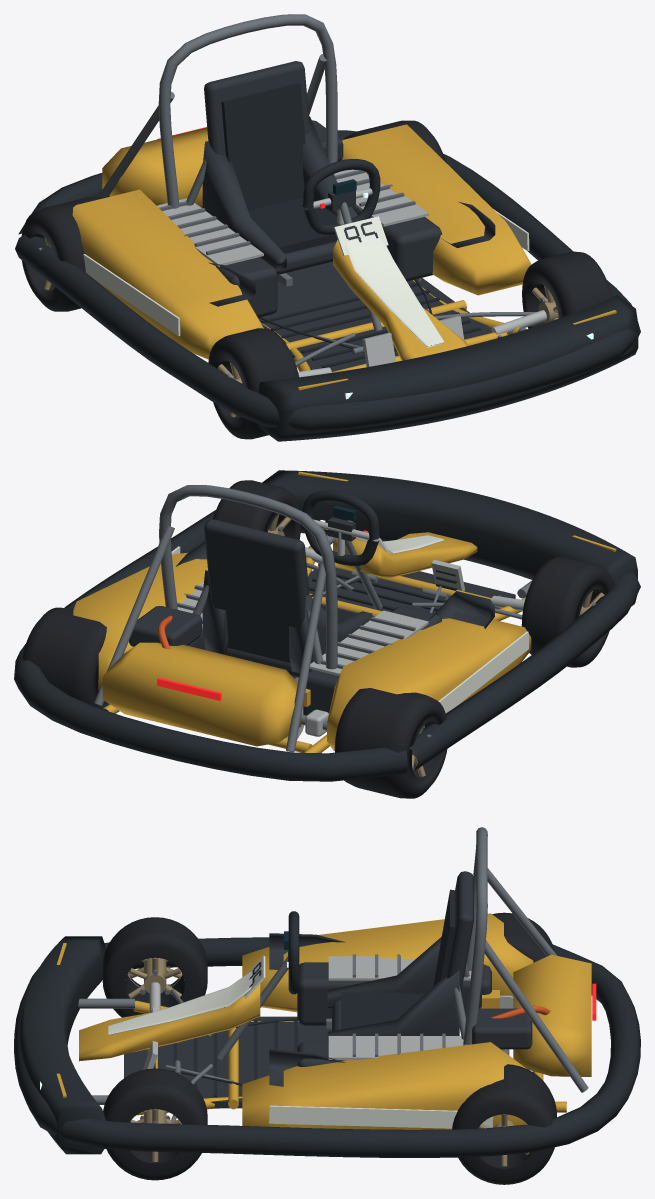
File: aegis.glb
3 views of the same model, one above another, from view 1: azimuth 30°, elevation 25°; view 2: azimuth 150°, elevation 25°; view 3: azimuth 270°, elevation 25° (orthographic).
Visible parts, largest first — view 1: Moulded bumper polymer (×3), paint, Satin composite, Slick vulcanised rubber (×4), Seat fabric, Steel fasteners, Livery ivory, Brushed alloy (×2); view 2: Moulded bumper polymer (×3), paint, Satin composite, Slick vulcanised rubber (×4), Steel fasteners, Brushed alloy (×3), Livery ivory, brake_light; view 3: Moulded bumper polymer (×3), paint, Satin composite, Slick vulcanised rubber (×4), Steel fasteners (×2), Livery ivory, Brushed alloy, Seat fabric, Magnesium wheel centres (×2).
Boxes of the visible parts, bbox=[...] form: Moulded bumper polymer (×3): bbox=[15, 130, 640, 441]; paint: bbox=[72, 124, 531, 372]; Satin composite: bbox=[158, 61, 495, 371]; Slick vulcanised rubber (×4): bbox=[21, 120, 612, 439]; Seat fabric: bbox=[221, 83, 337, 253]; Steel fasteners: bbox=[97, 14, 536, 366]; Livery ivory: bbox=[83, 209, 529, 347]; Brushed alloy (×2): bbox=[157, 169, 546, 377]; Moulded bumper polymer (×3): bbox=[14, 470, 640, 781]; paint: bbox=[73, 532, 531, 752]; Satin composite: bbox=[129, 519, 515, 715]; Slick vulcanised rubber (×4): bbox=[22, 480, 613, 798]; Steel fasteners: bbox=[94, 485, 522, 752]; Brushed alloy (×3): bbox=[177, 519, 524, 739]; Livery ivory: bbox=[171, 535, 528, 727]; brake_light: bbox=[157, 677, 221, 700]; Moulded bumper polymer (×3): bbox=[14, 911, 640, 1157]; paint: bbox=[79, 913, 591, 1129]; Satin composite: bbox=[124, 871, 532, 1108]; Slick vulcanised rubber (×4): bbox=[102, 912, 556, 1184]; Steel fasteners (×2): bbox=[78, 827, 588, 1121]; Livery ivory: bbox=[108, 955, 493, 1128]; Brushed alloy: bbox=[149, 956, 513, 1059]; Seat fabric: bbox=[341, 889, 455, 1029]; Magnesium wheel centres (×2): bbox=[128, 957, 181, 1161].
Size of the model in its own units: 2.17 by 1.22 by 2.8.
